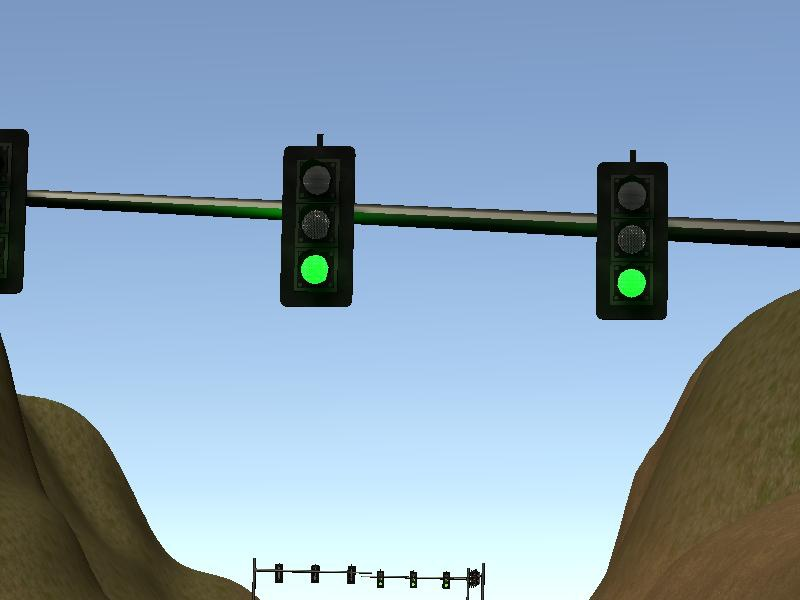Green: (278, 144, 356, 310), (593, 160, 670, 322), (406, 569, 419, 590), (375, 568, 386, 590), (441, 568, 451, 591)
